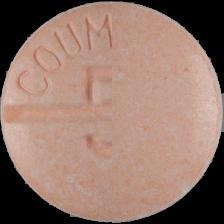67544-052: (0, 0, 224, 224)
